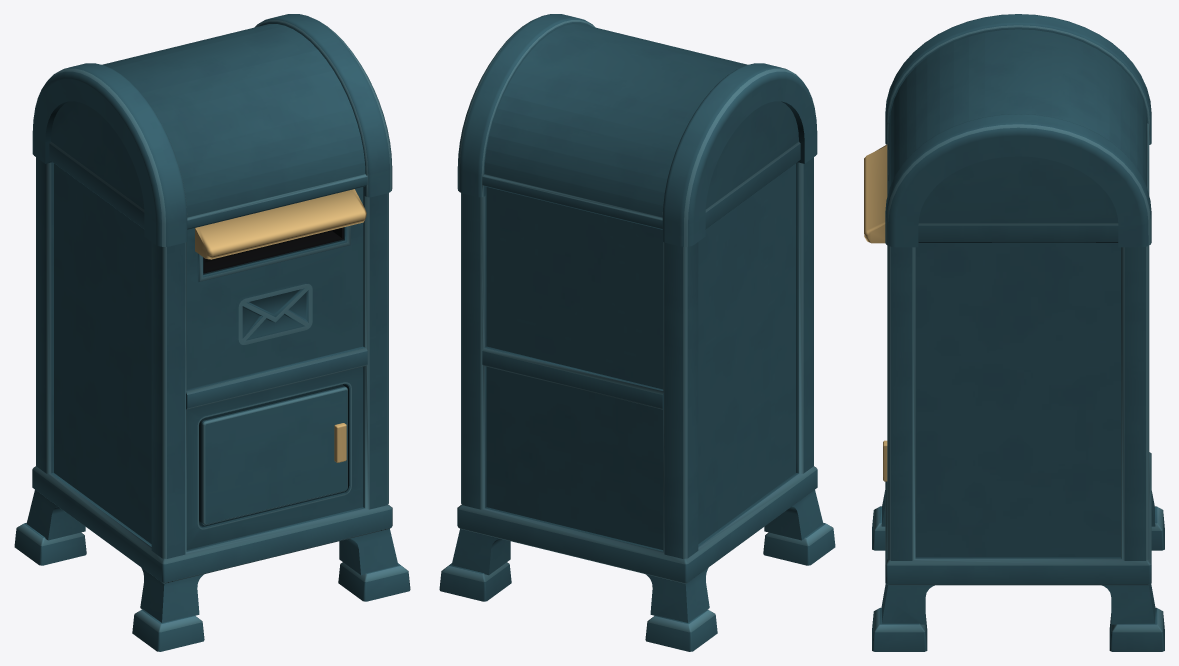
File: houdini_mailbox.glb
3 renders of one model, left to right at view 1: azimuth 30°, elevation 25°; view 2: azimuth 150°, elevation 25°; view 3: azimuth 270°, elevation 25°, orthographic.
Parts seen in each view (by area): view 1: LOD0; view 2: LOD0; view 3: LOD0.
Boxes of the visible parts, x1,y1,x2,y2 form: LOD0: [14, 14, 410, 651]; LOD0: [439, 14, 835, 651]; LOD0: [864, 14, 1164, 651].
Size of what is drawn, in the model's own units: 0.667 by 1.3 by 0.6799.
2 materials, 2 textured.
